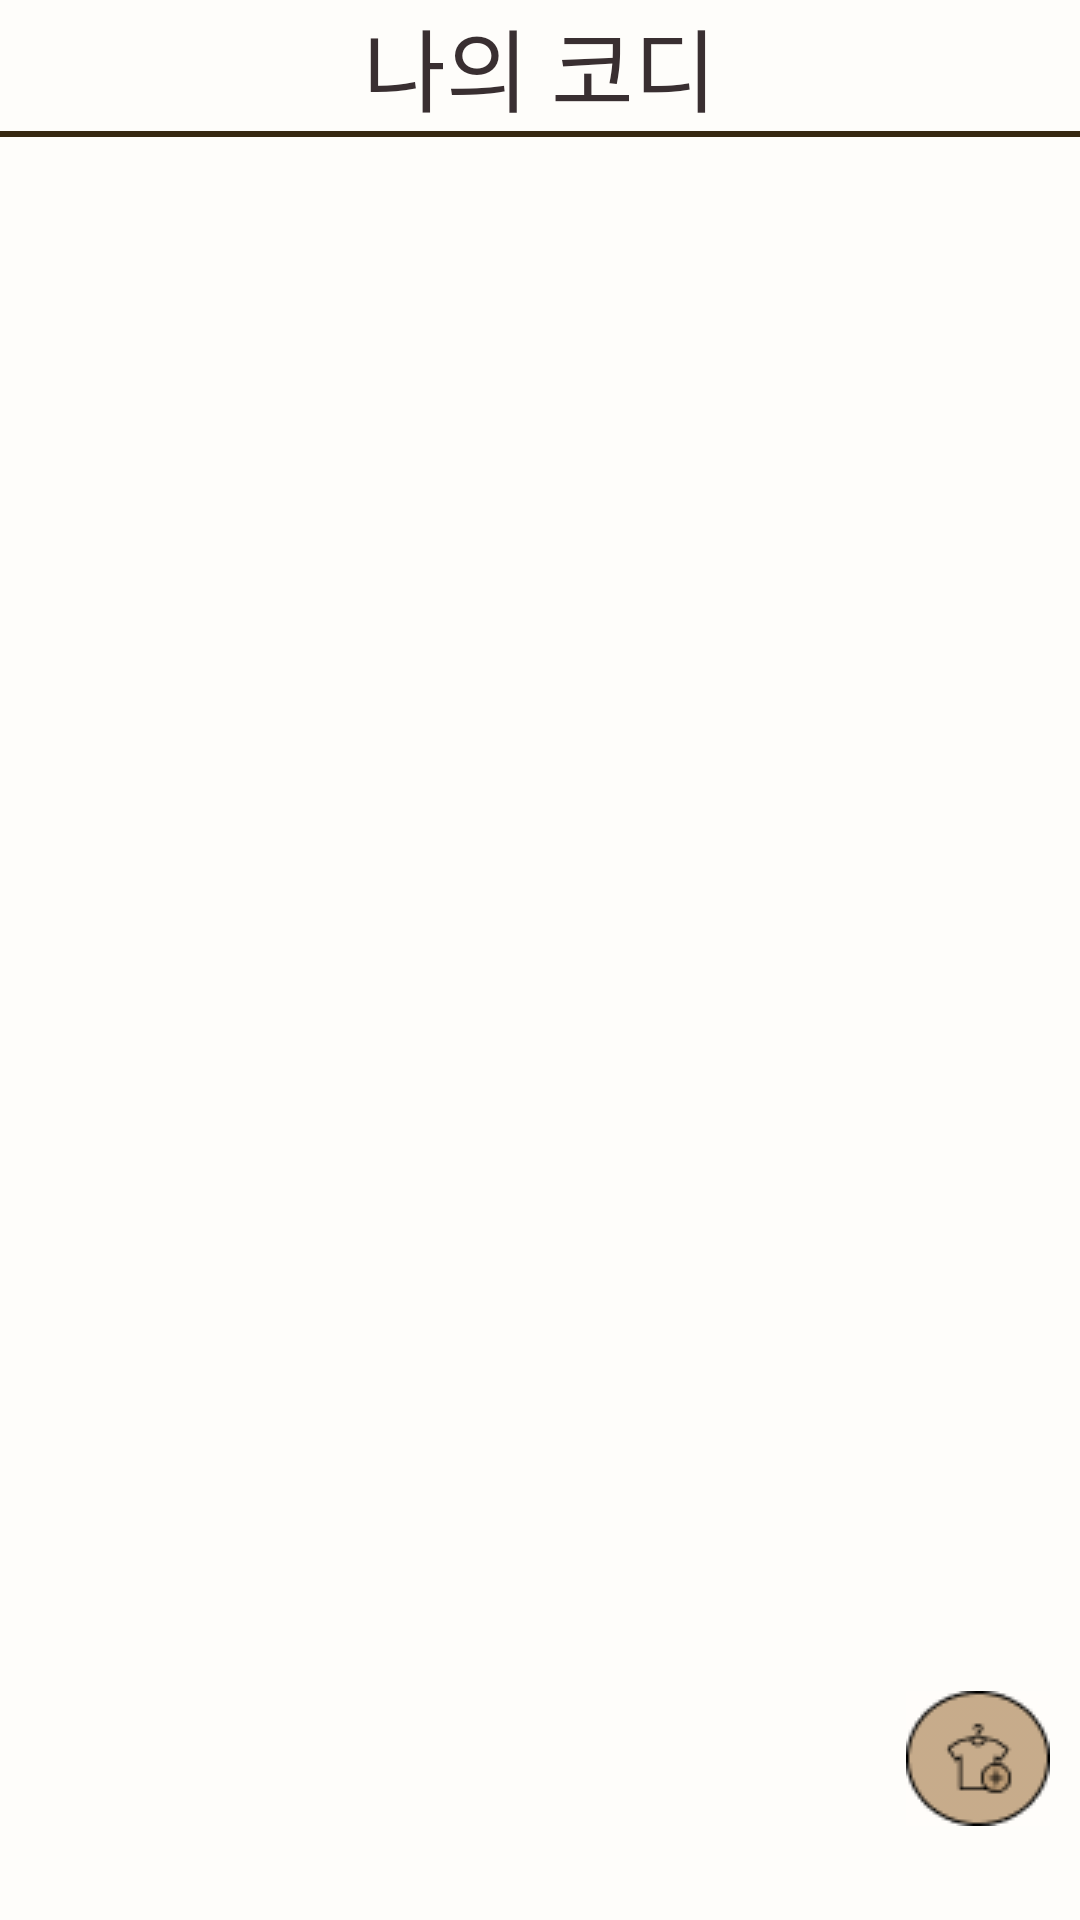

Named icons in this screenshot (1080*1920) and their bounding boxes, (x1, y1, x2, y2):
clothes plus: (906, 1691, 1050, 1826)
